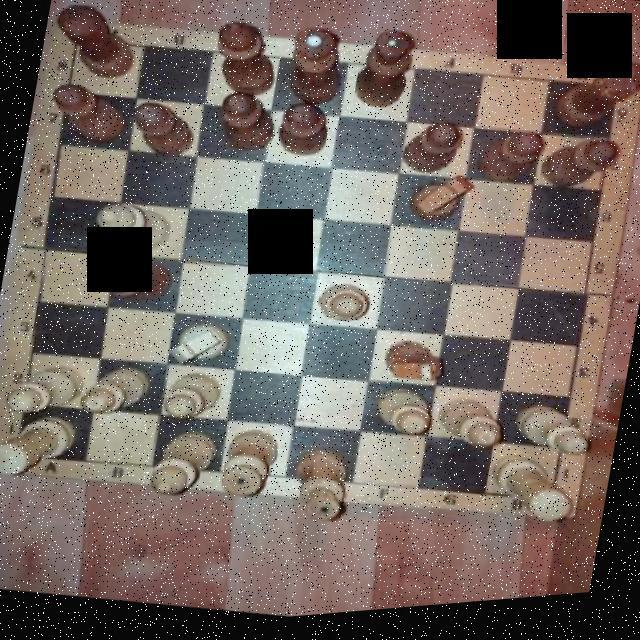chess-table-corners: (40, 13, 113, 73), (578, 69, 640, 129), (516, 475, 580, 530), (0, 423, 55, 481)
